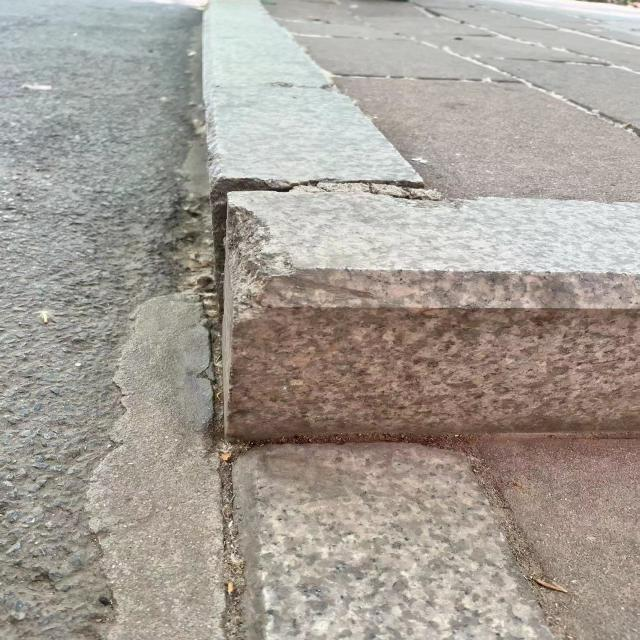curb: (217, 192, 640, 455), (186, 2, 425, 210)
